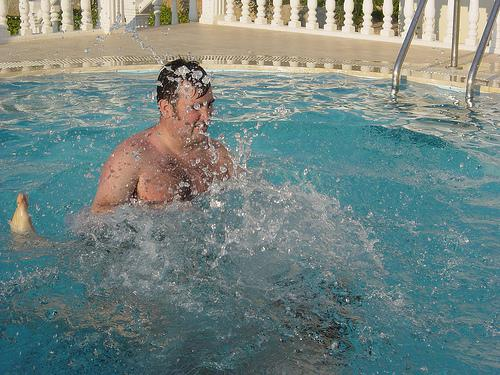human: (82, 59, 238, 231)
